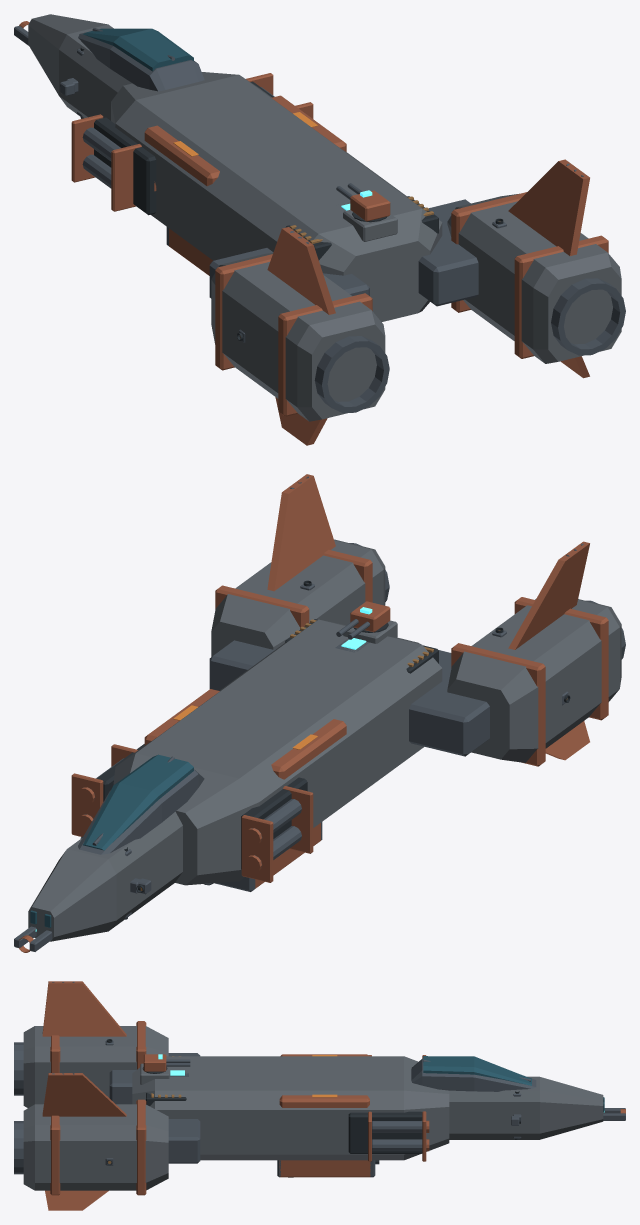
File: mars_assault_t3.glb
The picture shows the model from 3 angles, top to bottom: view 1: azimuth 30°, elevation 25°; view 2: azimuth 150°, elevation 25°; view 3: azimuth 270°, elevation 25°; orthographic projection. The views are drawn at different scales.
Visible parts, largest first — view 1: FleetHull, mesh_pd_yaw_0; view 2: FleetHull, mesh_pd_yaw_0; view 3: FleetHull, mesh_pd_yaw_0.
Boxes of the visible parts, x1,y1,x2,y2 form: FleetHull: [14, 14, 625, 445]; mesh_pd_yaw_0: [350, 190, 390, 221]; FleetHull: [14, 474, 625, 952]; mesh_pd_yaw_0: [350, 601, 390, 632]; FleetHull: [14, 981, 625, 1210]; mesh_pd_yaw_0: [143, 1054, 166, 1071].
Size of the model in its own units: 11.43 by 6.69 by 27.02.
